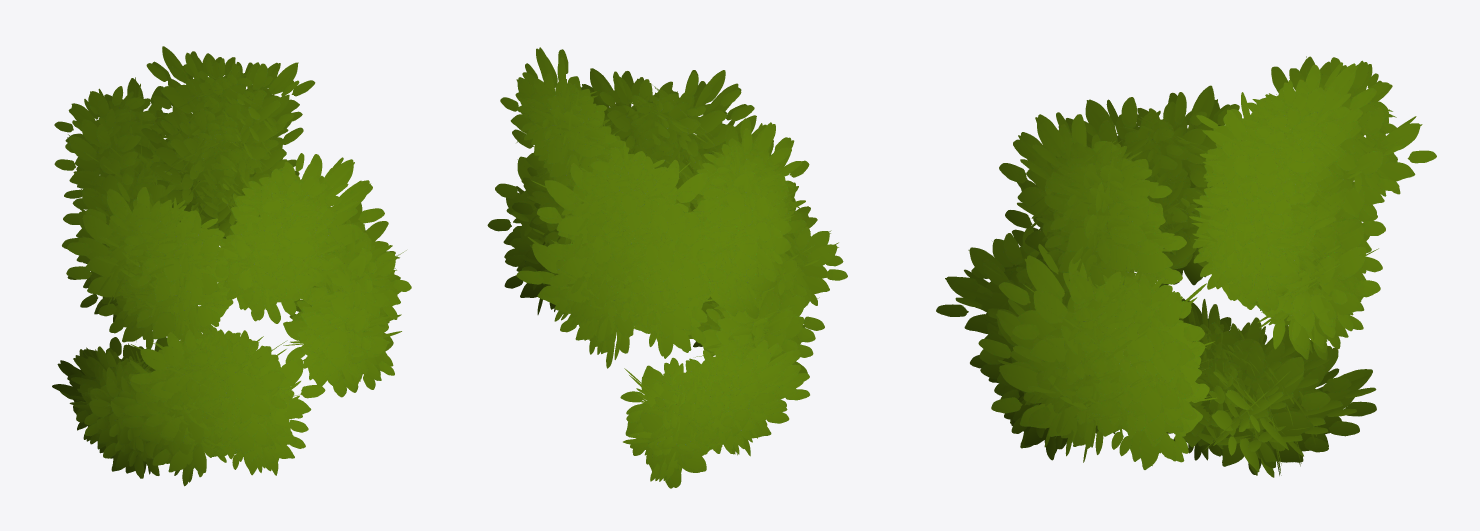
File: commontree-5.glb
The picture shows the model from 3 angles, left to right: view 1: azimuth 30°, elevation 25°; view 2: azimuth 150°, elevation 25°; view 3: azimuth 270°, elevation 25°; orthographic projection. The views are drawn at different scales.
Parts seen in each view (by area): view 1: CommonTree_5; view 2: CommonTree_5; view 3: CommonTree_5.
Part boxes in pixels (bbox=[...]): CommonTree_5: bbox=[52, 46, 411, 486]; CommonTree_5: bbox=[487, 47, 847, 488]; CommonTree_5: bbox=[936, 56, 1436, 477].
Size of the model in its own units: 3.67 by 4.41 by 4.22.
1 material, 1 textured.
